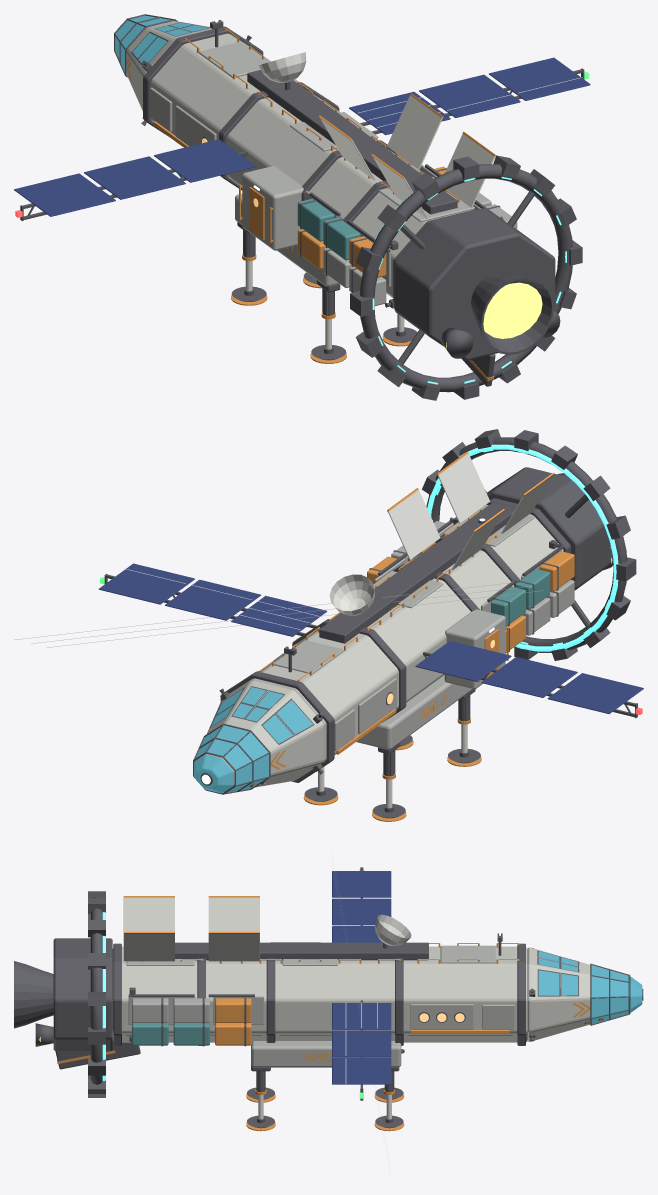
File: ship_v2.glb
3 views of the same model, one above another, from view 1: azimuth 30°, elevation 25°; view 2: azimuth 150°, elevation 25°; view 3: azimuth 270°, elevation 25° (orthographic). The views are drawn at different scales.
Visible parts, largest first — view 1: Hull_Main, Hull_Aft, FTL_Ring, FTL_Coils, Spine, Airlock_Module, Engine_Main, Engine_Main_Glow, SolarPanel_L1, SolarPanel_L3, SolarPanel_R3, SolarPanel_L2 (+31 smaller); view 2: Hull_Main, Hull_Aft, Spine, Hull_Nose, FTL_Coils, FTL_Ring, Bay_Hull, Canopy_NoseGlass, Canopy_Glass, SolarPanel_R2, SolarPanel_L1, SolarPanel_L3 (+26 smaller); view 3: Hull_Main, Hull_Aft, Spine, Hull_Nose, Bay_Hull, Engine_Main, FTL_Coils, Radiator_L0, Radiator_L1, Canopy_NoseGlass, SolarPanel_R2, SolarPanel_L3 (+26 smaller).
Part boxes in pixels (<box>): Hull_Main: <box>150,33,473,297</box>; Hull_Aft: <box>394,208,555,360</box>; FTL_Ring: <box>359,164,572,392</box>; FTL_Coils: <box>350,155,582,400</box>; Spine: <box>247,69,457,214</box>; Airlock_Module: <box>242,166,303,250</box>; Engine_Main: <box>471,274,553,354</box>; Engine_Main_Glow: <box>483,282,542,338</box>; SolarPanel_L1: <box>154,139,255,182</box>; SolarPanel_L3: <box>14,173,115,216</box>; SolarPanel_R3: <box>489,57,590,100</box>; SolarPanel_L2: <box>84,156,185,199</box>; Hull_Main: <box>229,514,563,779</box>; Hull_Aft: <box>487,467,610,590</box>; Spine: <box>319,502,515,643</box>; Hull_Nose: <box>195,680,324,792</box>; FTL_Coils: <box>422,429,636,660</box>; FTL_Ring: <box>426,437,627,652</box>; Bay_Hull: <box>356,675,472,749</box>; Canopy_NoseGlass: <box>194,725,269,792</box>; Canopy_Glass: <box>211,687,312,743</box>; SolarPanel_R2: <box>165,579,261,620</box>; SolarPanel_L1: <box>415,641,511,681</box>; SolarPanel_L3: <box>547,673,643,714</box>; Hull_Main: <box>112,946,527,1042</box>; Hull_Aft: <box>53,938,112,1051</box>; Spine: <box>175,942,428,960</box>; Hull_Nose: <box>527,947,590,1041</box>; Bay_Hull: <box>251,1041,401,1067</box>; Engine_Main: <box>14,961,53,1028</box>; FTL_Coils: <box>88,891,105,1097</box>; Radiator_L0: <box>123,897,174,931</box>; Radiator_L1: <box>208,897,259,931</box>; Canopy_NoseGlass: <box>591,965,628,1024</box>; SolarPanel_R2: <box>332,1030,391,1057</box>; SolarPanel_L3: <box>332,871,391,897</box>.
Size of the model in its own units: 30.45 by 11.7 by 31.88.
